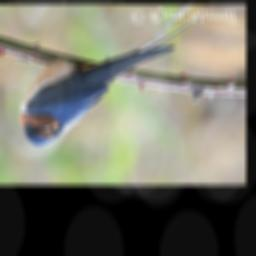Swallow: (17, 13, 205, 147)
